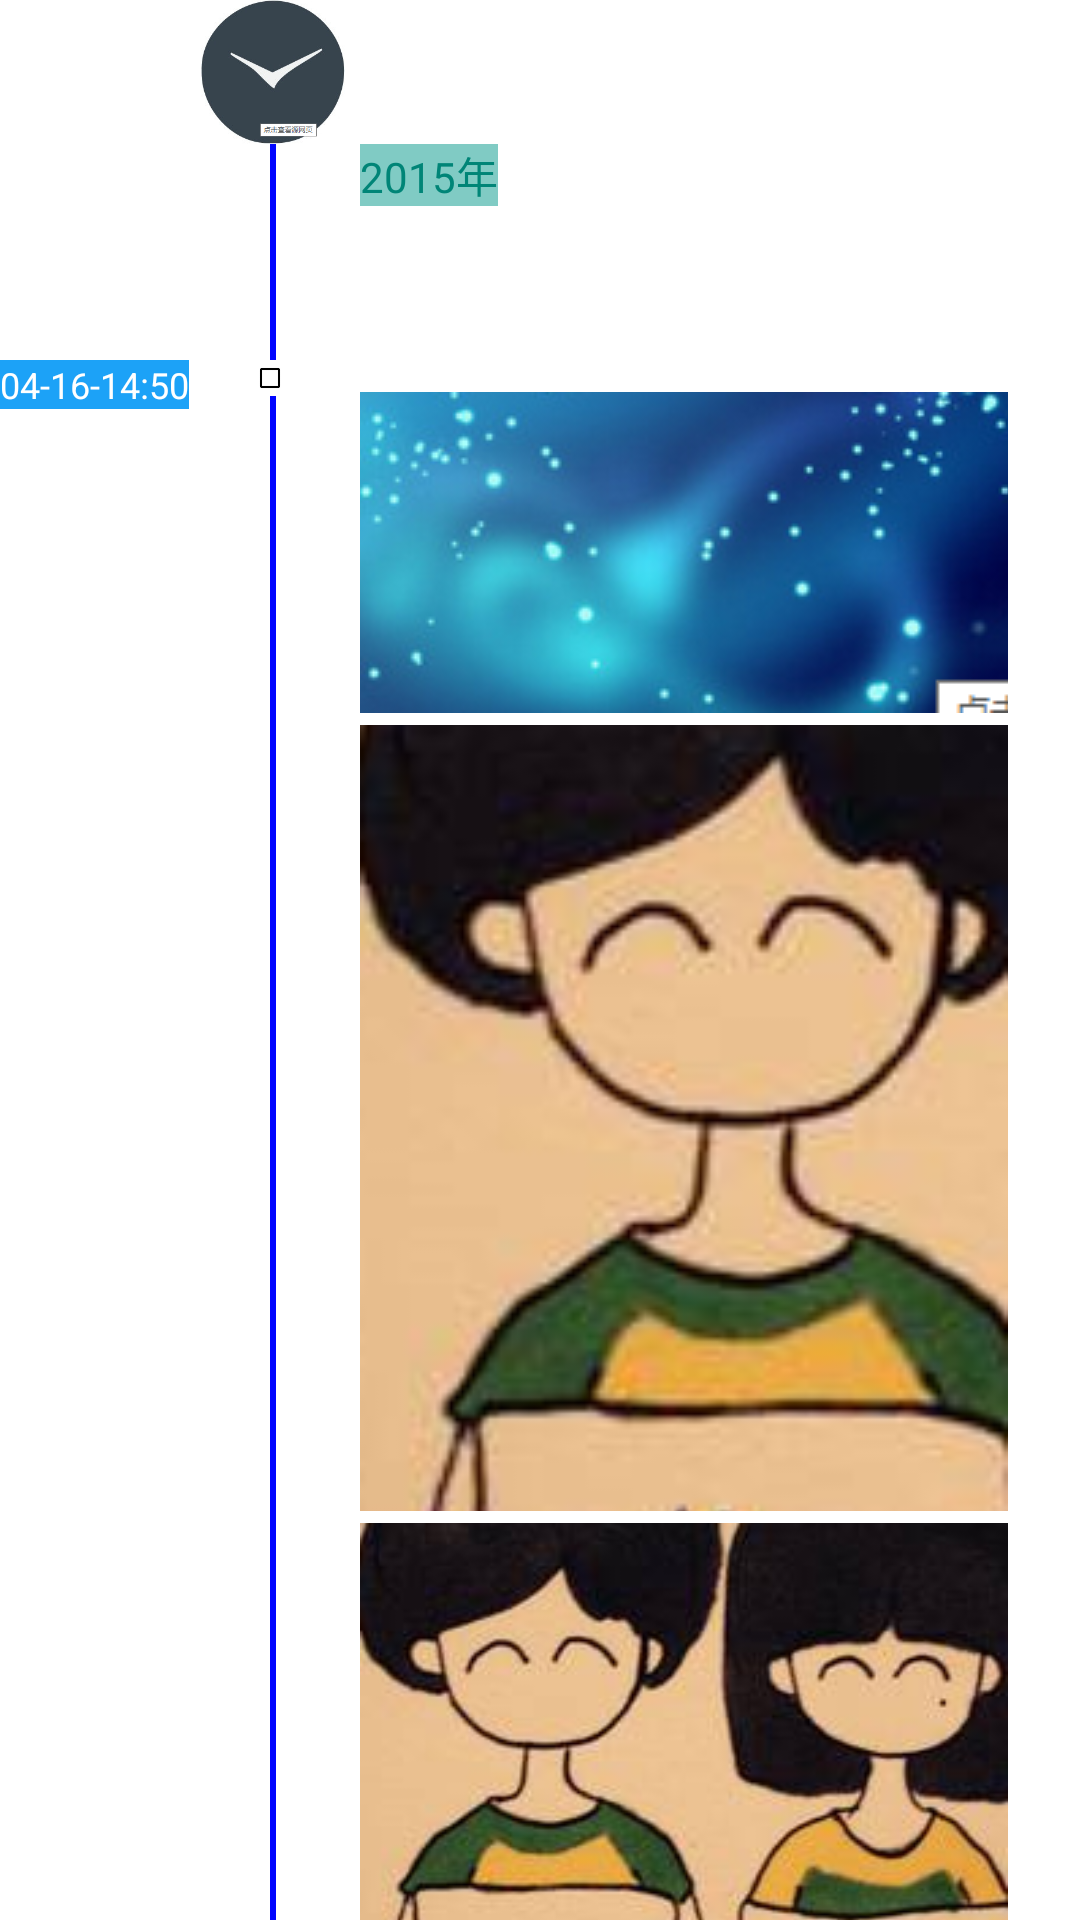

Where to tap for icons on this 1080 x 1920 app screen, as point (x, y):
shijian: point (273, 72)
